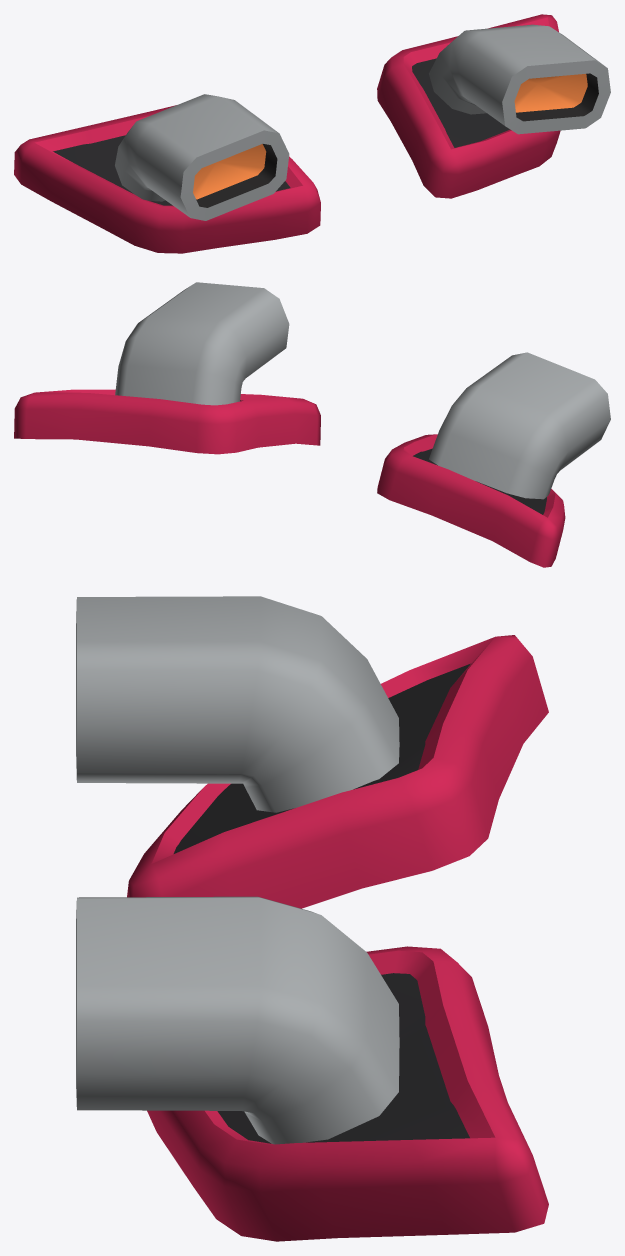
File: Car_07_Engine.fbx
The picture shows the model from 3 angles, top to bottom: view 1: azimuth 30°, elevation 25°; view 2: azimuth 150°, elevation 25°; view 3: azimuth 270°, elevation 25°; orthographic projection. The views are drawn at different scales.
Visible parts, largest first — view 1: Car_07_Engine; view 2: Car_07_Engine; view 3: Car_07_Engine.
Boxes of the visible parts, x1,y1,x2,y2 form: Car_07_Engine: (14,14,610,253); Car_07_Engine: (14,282,610,567); Car_07_Engine: (76,596,548,1241).
Bounding box in the file's own units: 99.3 × 37.89 × 24.31.
